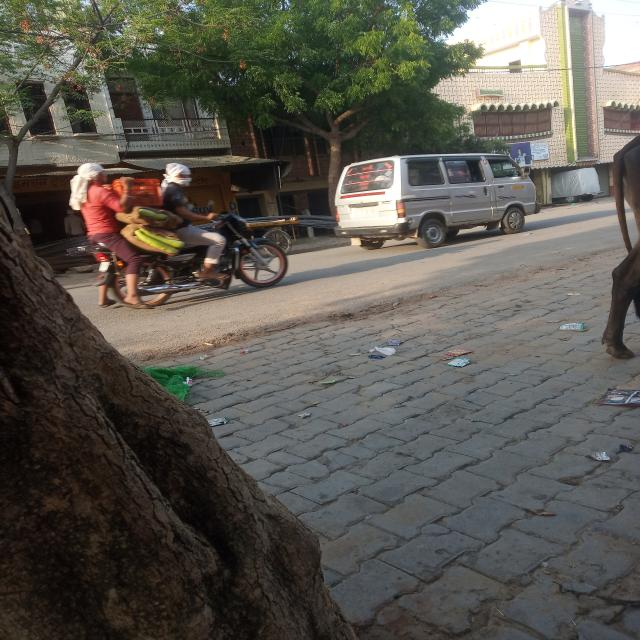Car: (335, 152, 541, 249)
Two Wheeler: (217, 212, 287, 288), (139, 248, 212, 306), (95, 250, 122, 298)
